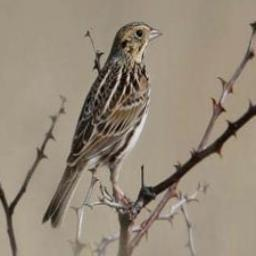Sparrow: (38, 16, 166, 235)
